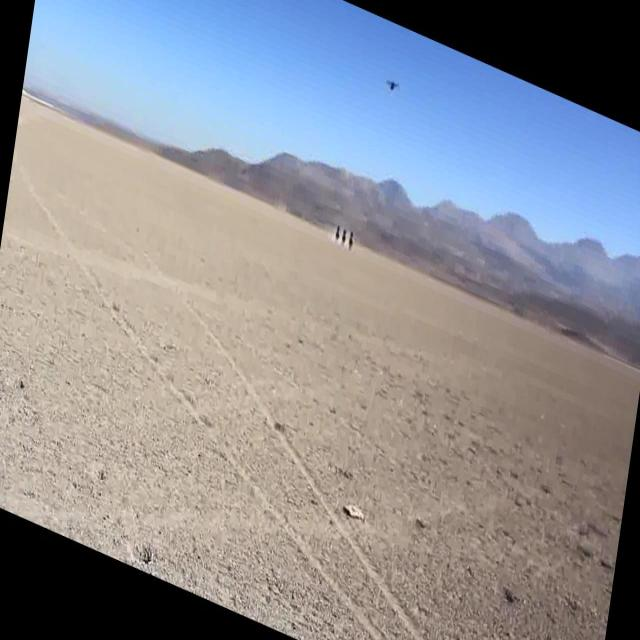drone: (385, 69, 400, 102)
